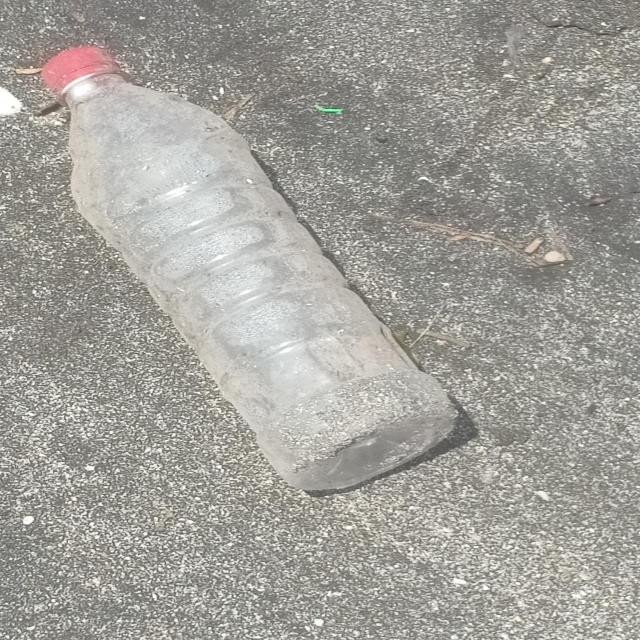plastic_waste: (43, 42, 457, 490)
